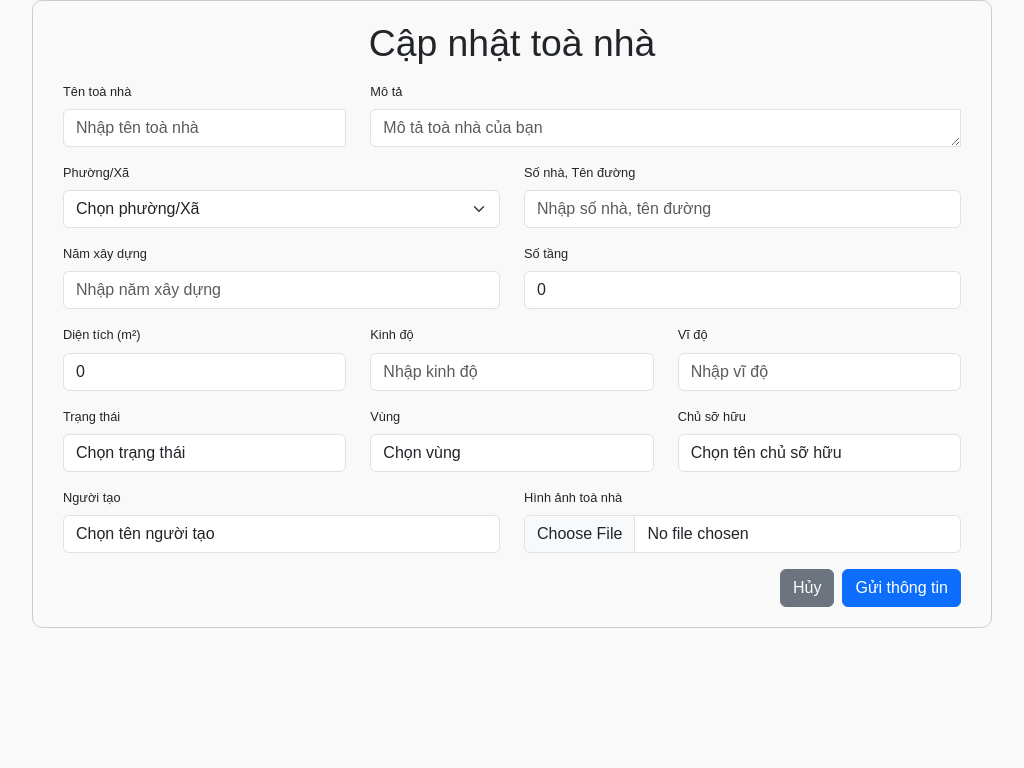
Test case: UpdateBuilding Component › displays validation errors when submitting an empty form
Step 1. Click the button "Gửi thông tin" → [902, 588], box [842,569,961,607]
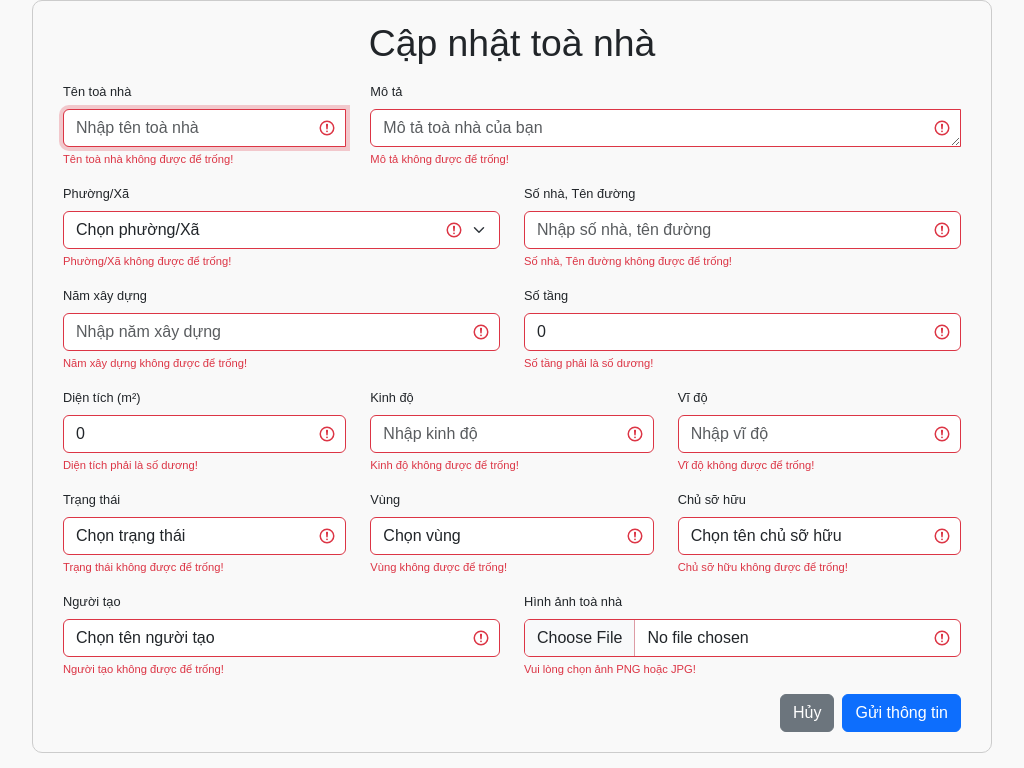
Expected: the text "Tên toà nhà không được để trống!" is shown, [63,153,233,165]
Expected: the text "Mô tả không được để trống!" is shown, [370,153,509,165]
Expected: the text "Phường/Xã không được để trống!" is shown, [63,255,231,267]
